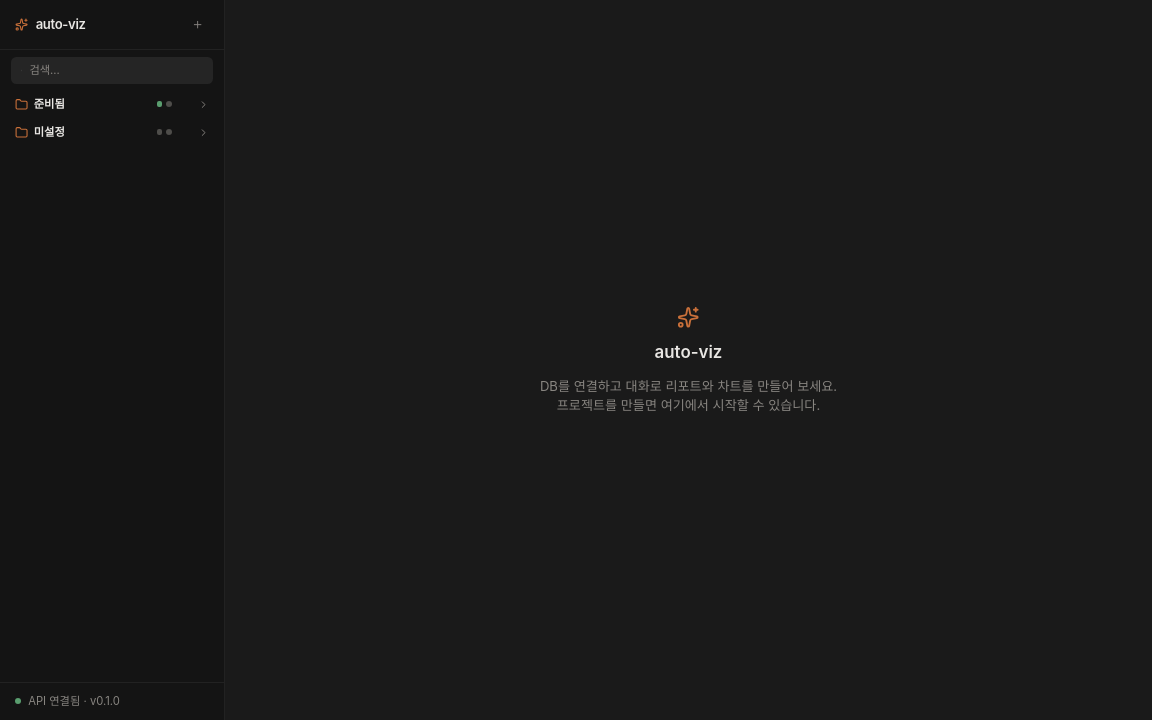
사이드바 프로젝트 목록 › LLM이 준비되지 않은 프로젝트의 대화 섹션에 잠금 표시를 한다
Click the button "준비됨": coordinates (83, 104) [15, 97, 151, 112]
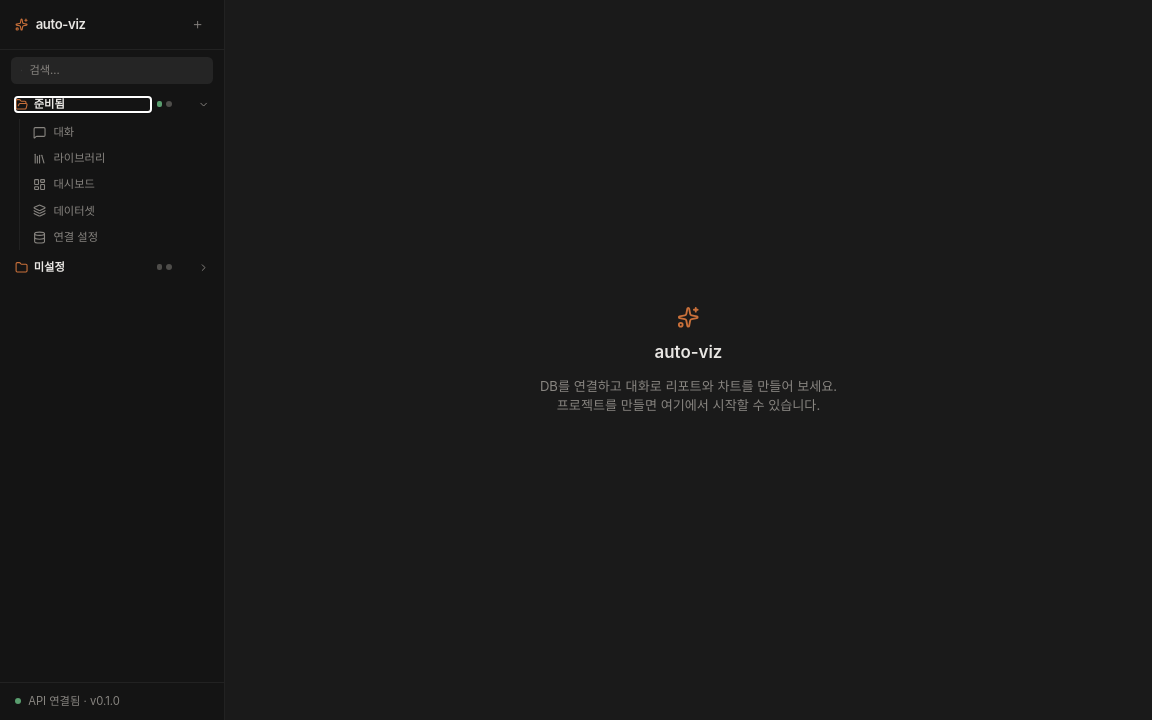
Click the button "미설정": coordinates (83, 267) [15, 260, 151, 275]
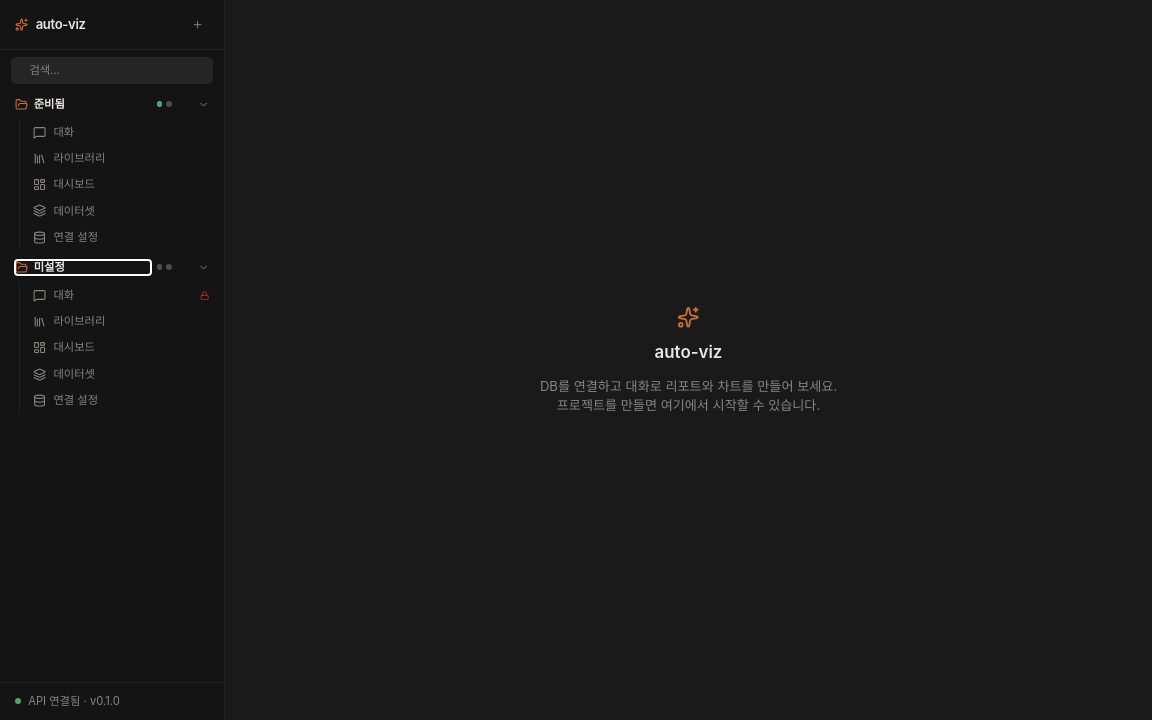
Expected: the number of icons named "LLM 설정 필요" is 1, [200, 291, 209, 300]
